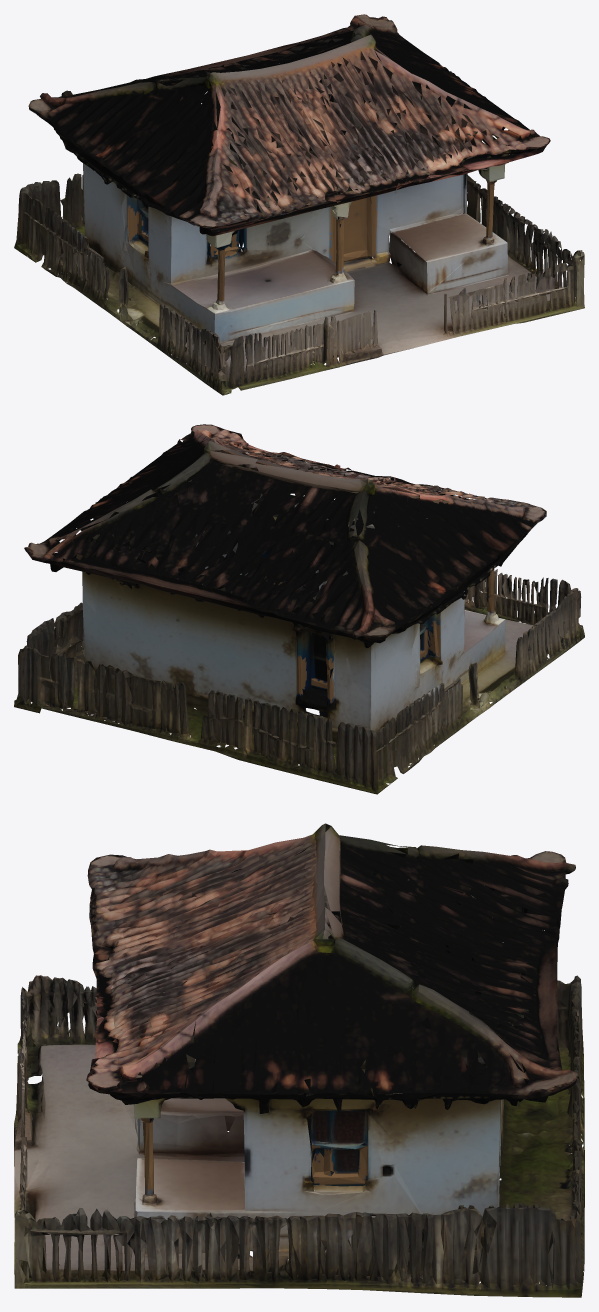
File: indian_house_old_18_qlsq.glb
3 views of the same model, one above another, from view 1: azimuth 30°, elevation 25°; view 2: azimuth 150°, elevation 25°; view 3: azimuth 270°, elevation 25° (orthographic). The views are drawn at different scales.
Visible parts, largest first — view 1: Indian House; view 2: Indian House; view 3: Indian House.
Part boxes in pixels (left/top/right/bottom): Indian House: left=14, top=14, right=584, bottom=395; Indian House: left=14, top=424, right=584, bottom=794; Indian House: left=14, top=823, right=584, bottom=1297.
Bounding box in the file's own units: 7.32 × 4.26 × 7.31.
1 material, 1 textured.
